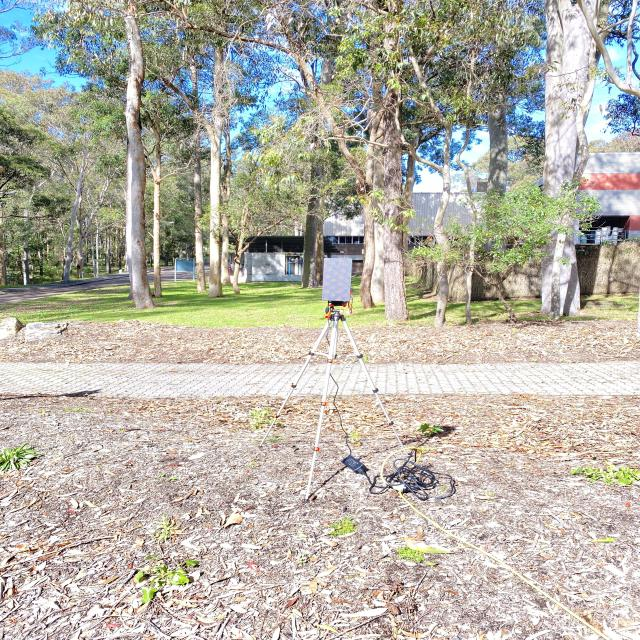matrix: (316, 252, 360, 305)
